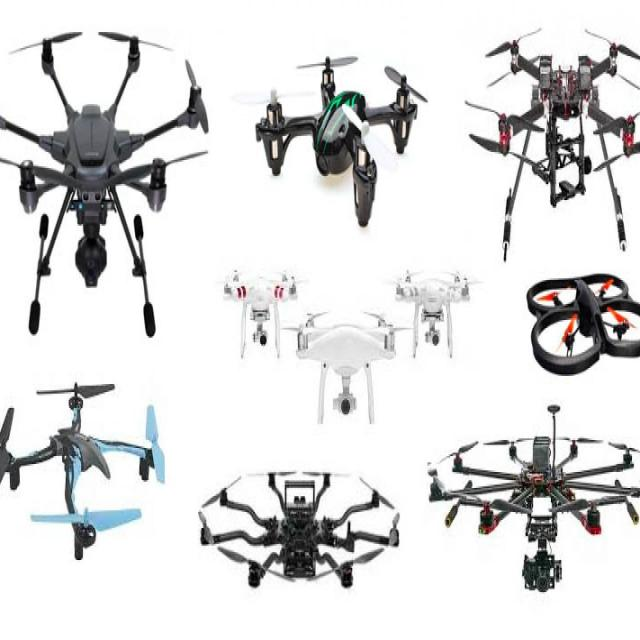drone: (0, 0, 192, 329), (405, 405, 640, 607), (449, 19, 640, 251), (0, 374, 179, 592), (189, 446, 403, 613), (248, 39, 431, 230), (509, 258, 640, 382), (280, 306, 403, 431), (383, 255, 479, 365), (221, 254, 300, 368)
